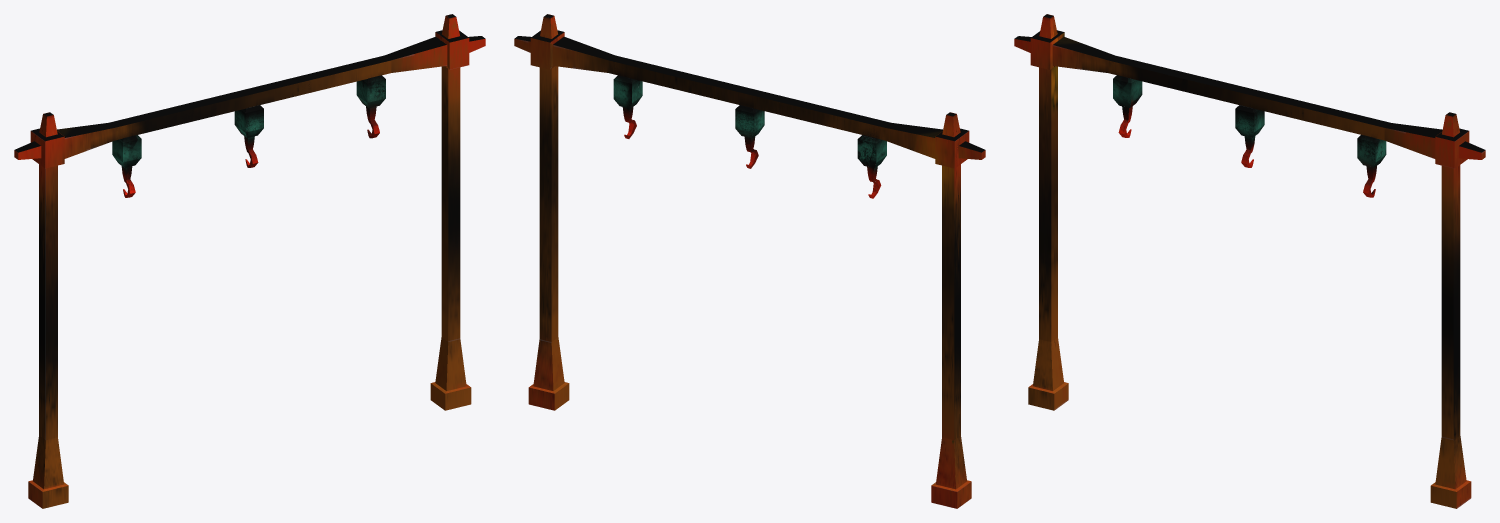
The model's file is ganchos malvados .fbx.
3 views of the same model, side by side, from view 1: azimuth 30°, elevation 25°; view 2: azimuth 150°, elevation 25°; view 3: azimuth 330°, elevation 25° (orthographic).
Visible parts, largest first — view 1: ganchos_peces_Malvados; view 2: ganchos_peces_Malvados; view 3: ganchos_peces_Malvados.
Boxes of the visible parts, x1,y1,x2,y2 form: ganchos_peces_Malvados: (14,14,485,508); ganchos_peces_Malvados: (514,14,985,508); ganchos_peces_Malvados: (1014,14,1485,508).
Size of the model in its own units: 2902 by 2290 by 156.
Materials: 1 (1 with a texture image).
